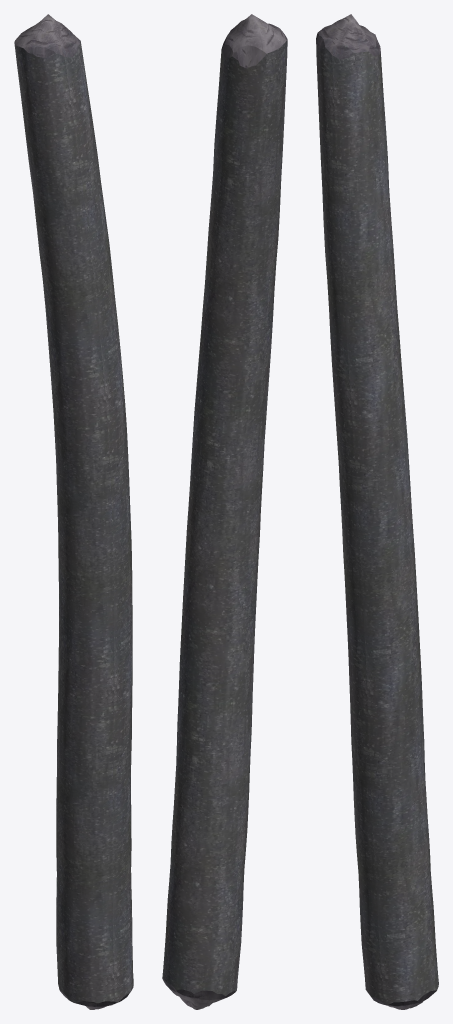
The picture shows the model from 3 angles, left to right: view 1: azimuth 30°, elevation 25°; view 2: azimuth 150°, elevation 25°; view 3: azimuth 330°, elevation 25°; orthographic projection. The views are drawn at different scales.
Parts seen in each view (by area): view 1: SM_FH_Ash_Tree_01_tree_quarters_top_LOD0; view 2: SM_FH_Ash_Tree_01_tree_quarters_top_LOD0; view 3: SM_FH_Ash_Tree_01_tree_quarters_top_LOD0.
Part boxes in pixels (x1,y1,x2,y2): SM_FH_Ash_Tree_01_tree_quarters_top_LOD0: (14, 14, 133, 1009); SM_FH_Ash_Tree_01_tree_quarters_top_LOD0: (162, 14, 287, 1009); SM_FH_Ash_Tree_01_tree_quarters_top_LOD0: (316, 14, 438, 1009).
Size of the model in its own units: 0.8063 by 6.88 by 0.6161.
Materials: 1 (1 with a texture image).
